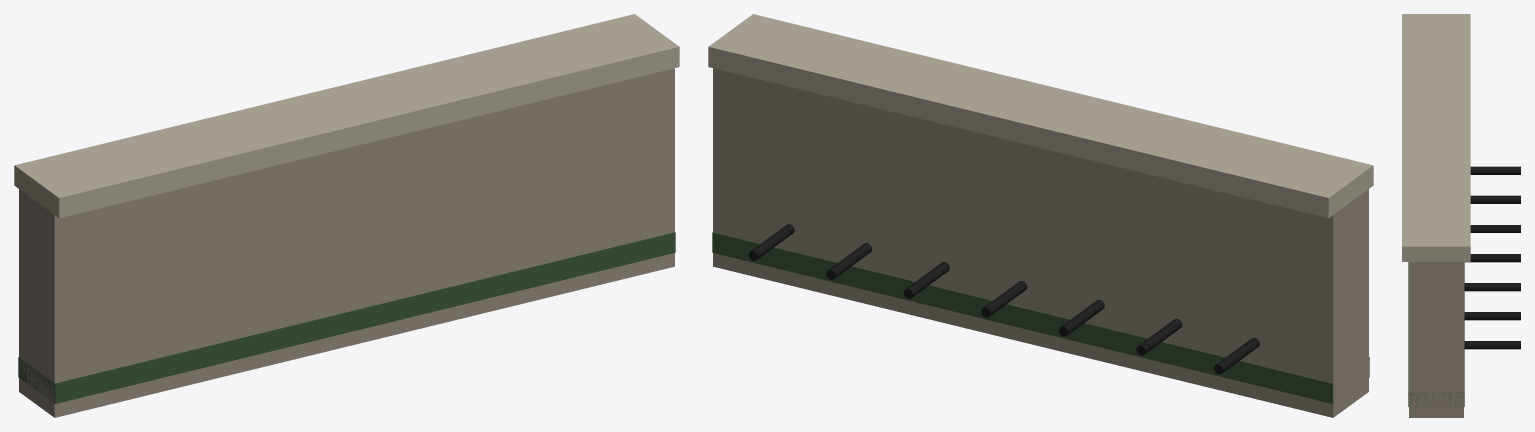
Rendered from f04-bank-masonry-wall.glb.
3 views of the same model, side by side, from view 1: azimuth 30°, elevation 25°; view 2: azimuth 150°, elevation 25°; view 3: azimuth 270°, elevation 25° (orthographic). The views are drawn at different scales.
Parts seen in each view (by area): view 1: part0, part1, part2; view 2: part0, part1, part2, part3; view 3: part1, part0, part3, part2.
Part boxes in pixels (x1,y1,x2,y2): part0: [19, 68, 674, 417]; part1: [14, 14, 679, 218]; part2: [18, 232, 675, 403]; part0: [713, 68, 1368, 417]; part1: [708, 14, 1373, 218]; part2: [712, 232, 1369, 403]; part3: [748, 224, 1259, 374]; part1: [1402, 14, 1470, 261]; part0: [1409, 262, 1463, 417]; part3: [1464, 166, 1520, 349]; part2: [1408, 262, 1464, 406].
Bounding box in the file's own units: 8000 × 2750 × 1730.
